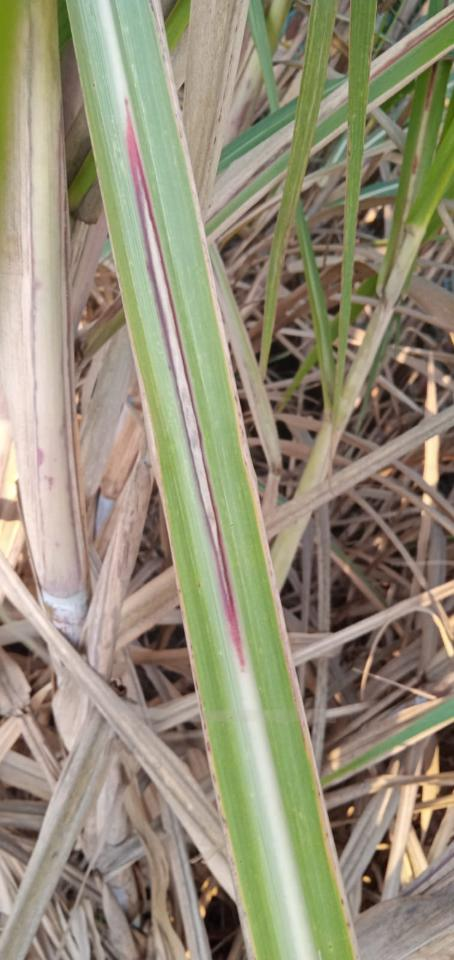RedRot: (123, 92, 247, 674)
